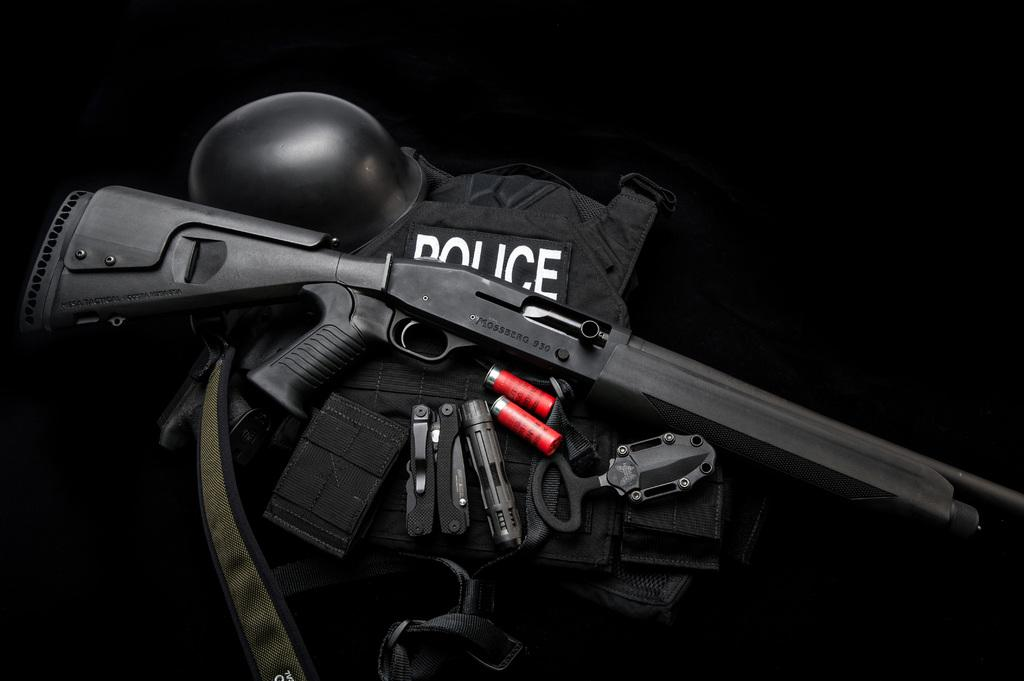Rifle: (21, 186, 1023, 568)
